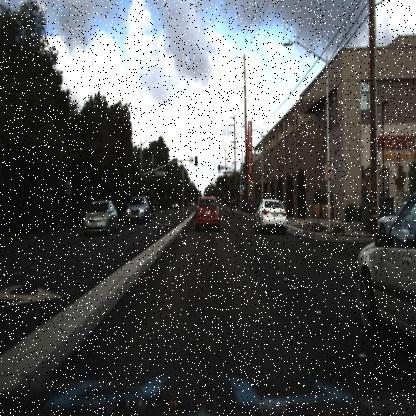car: (348, 182, 416, 352), (187, 188, 230, 237), (79, 193, 119, 238), (254, 190, 290, 238), (80, 198, 120, 235), (121, 190, 154, 226), (125, 193, 149, 225)
trafficLight-Green: (214, 160, 223, 180), (242, 184, 246, 196), (238, 182, 242, 193)
